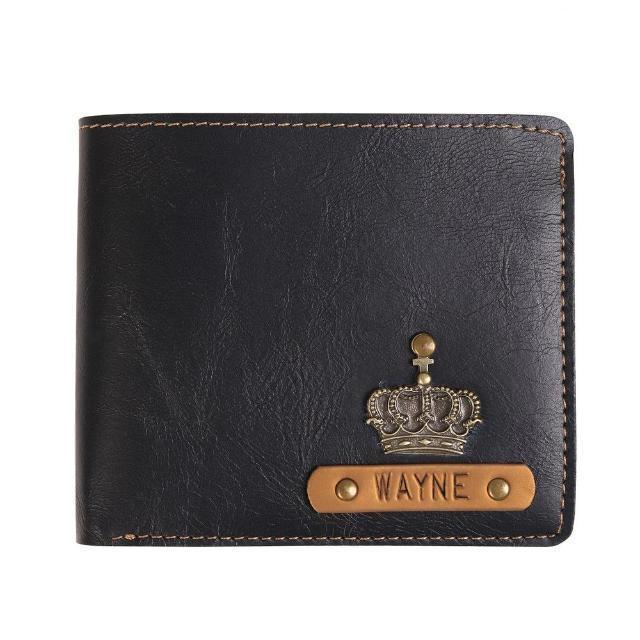Wallet: (77, 114, 575, 546)
